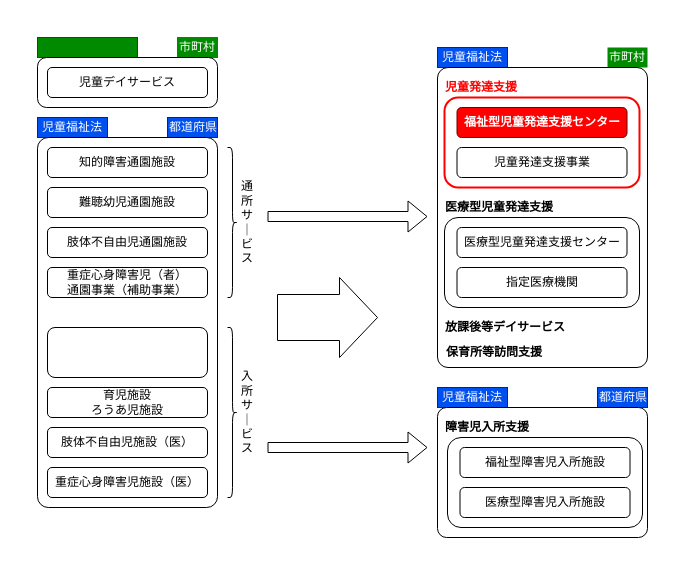
The diagram is 684 pixels wide and 574 high, and some of its shapes have lost their labels. The shapes that lost their labels are listed below. From the top down, each one's box as (x1, y1, x2, y2) in pixels, then its label:
(36, 36, 138, 58): 障害者自立支援法
(276, 276, 378, 358): 平成24年の 法改正
(46, 326, 208, 378): 知的障害児施設 第一種自閉症児施設（医） 第二種自閉症児施設
